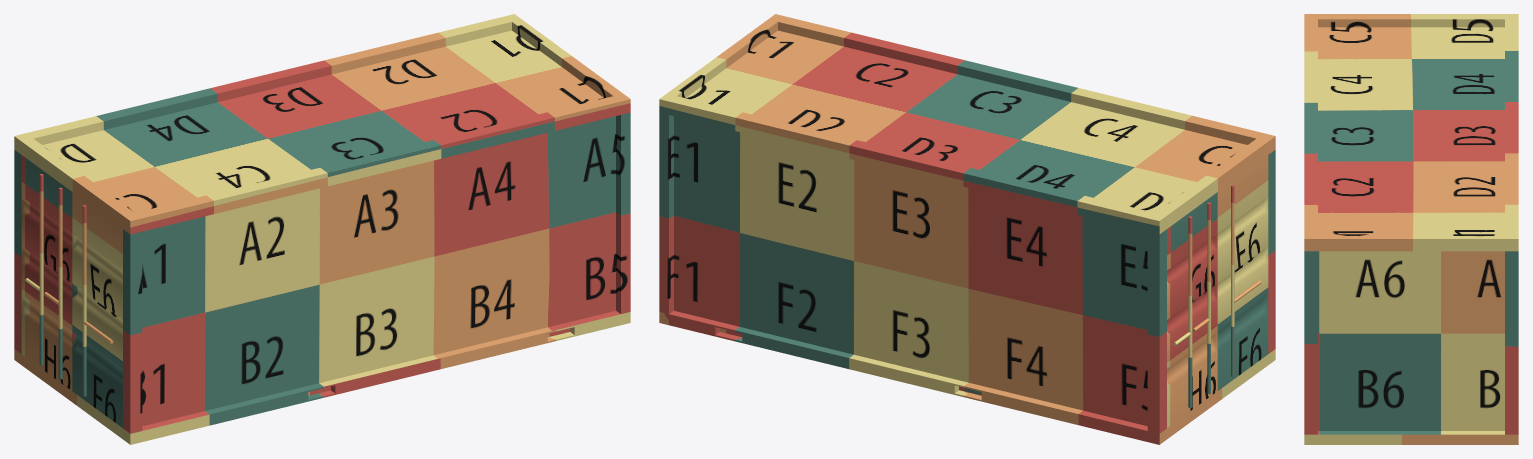
The model's file is shippent_container.fbx.
3 renders of one model, left to right at view 1: azimuth 30°, elevation 25°; view 2: azimuth 150°, elevation 25°; view 3: azimuth 270°, elevation 25°, orthographic. The views are drawn at different scales.
Visible parts, largest first — view 1: shipping_container, door3, door, pCylinder2, pCylinder3, pCylinder1; view 2: shipping_container, door3, door, pCylinder3, pCylinder1, pCylinder2; view 3: shipping_container.
Boxes of the visible parts, left/top/right/bottom form: shipping_container: left=14, top=14, right=630, bottom=444; door3: left=72, top=192, right=122, bottom=427; door: left=21, top=155, right=72, bottom=390; pCylinder2: left=58, top=187, right=62, bottom=379; pCylinder3: left=39, top=174, right=43, bottom=365; pCylinder1: left=82, top=205, right=86, bottom=396; shipping_container: left=659, top=14, right=1275, bottom=444; door3: left=1217, top=155, right=1268, bottom=390; door: left=1167, top=192, right=1217, bottom=427; pCylinder3: left=1188, top=216, right=1192, bottom=407; pCylinder1: left=1231, top=185, right=1234, bottom=376; pCylinder2: left=1207, top=202, right=1210, bottom=393; shipping_container: left=1304, top=14, right=1518, bottom=444.
Size of the model in its own units: 6.1 by 2.59 by 2.44.
Materials: 1 (1 with a texture image).
